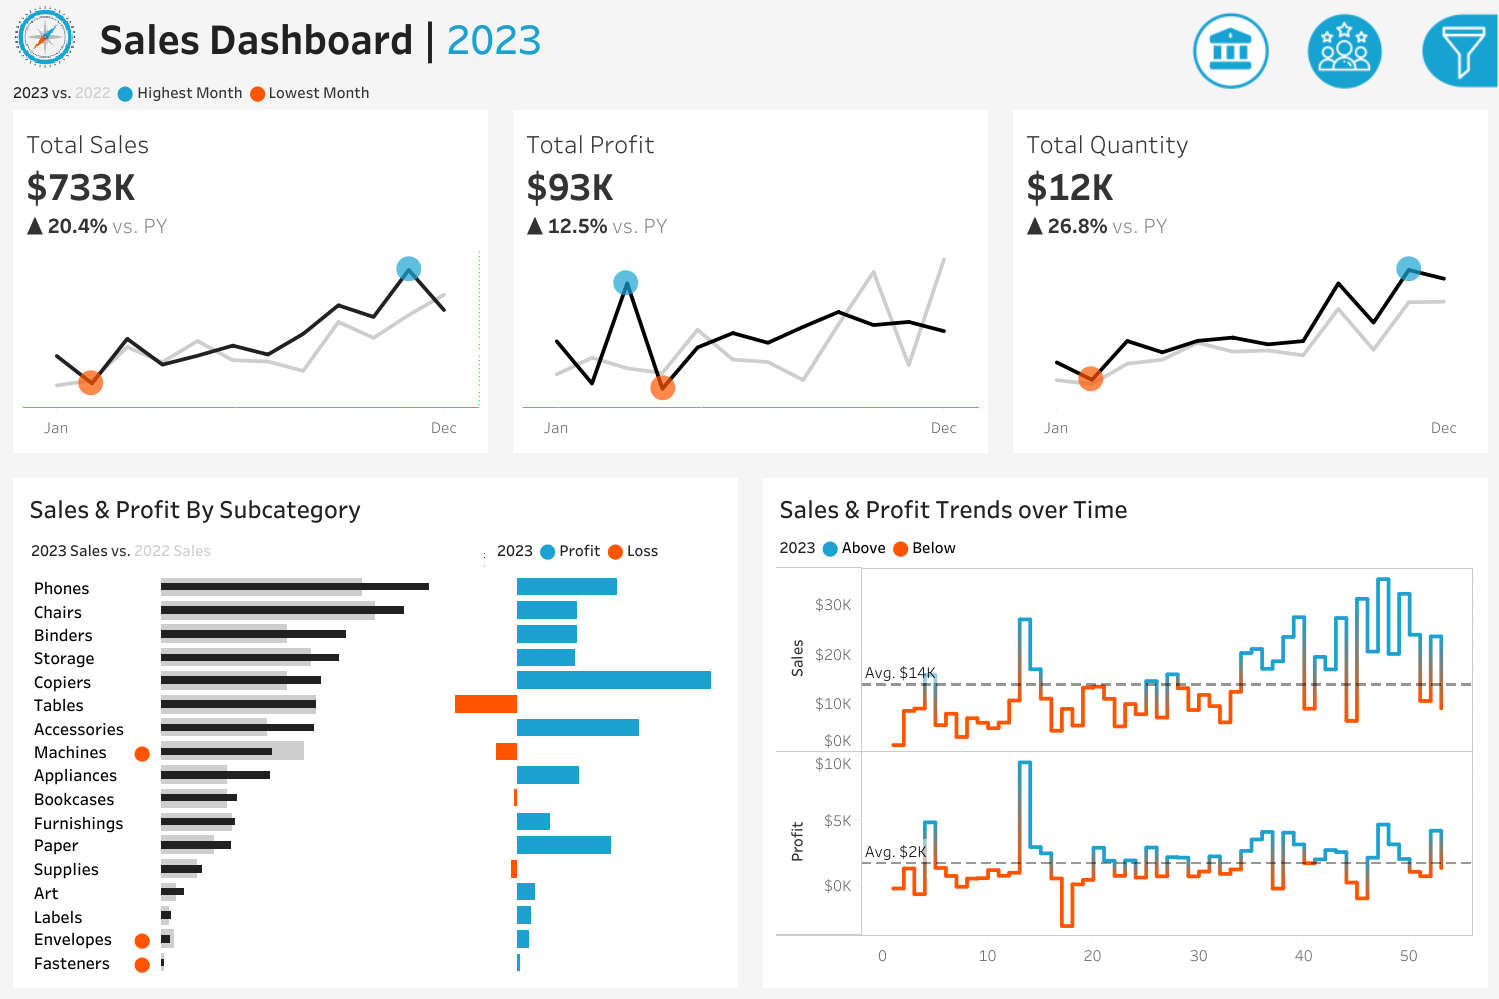

Layout of this report page (visuals, bound fields, positions):
{"tool":"tableau","page":{"name":"Sales Dashboard","canvas":[1200,800],"ordinal":1},"visuals":[{"type":"image","param":"Image/Icon - Logo.png","box":[0,0,73,59]},{"type":"text","box":[73,0,820,59]},{"type":"dashboard-object","box":[940,6,91,70]},{"type":"dashboard-object","box":[1031,6,91,70]},{"type":"blank","box":[952,10,237,86]},{"type":"worksheet","title":"Legend KPI","mark":"Automatic","box":[0,59,1200,29]},{"type":"worksheet","title":"KPI Sales","mark":"Automatic","rows":["Calculation_721701895347843083"],"cols":["Order Date"],"box":[0,88,400,284]},{"type":"worksheet","title":"KPI Profit","mark":"Automatic","rows":["Min/Max Sales (copy)_237846410425847814"],"cols":["Order Date"],"box":[400,88,400,284]},{"type":"worksheet","title":"KPI Quantity","mark":"Automatic","rows":["Min/Max Sales (copy) (copy)_237846410425856007"],"cols":["Order Date"],"box":[800,88,400,284]},{"type":"text","box":[952,96,237,37]},{"type":"parameter","param":"[Parameters].[Parameter 1]","box":[952,133,237,55]},{"type":"text","box":[952,188,237,32]},{"type":"filter","title":"KPI Sales","param":"[federated.1kpxa041aiai2y1cl4pui1t4eju9].[none:Category:nk]","box":[952,220,237,57]},{"type":"filter","title":"KPI Sales","param":"[federated.1kpxa041aiai2y1cl4pui1t4eju9].[none:Sub-Category:nk]","box":[952,277,237,57]},{"type":"blank","box":[952,334,237,60]},{"type":"text","box":[17,389,566,40]},{"type":"text","box":[617,389,566,40]},{"type":"text","box":[952,394,237,32]},{"type":"filter","title":"KPI Sales","param":"[federated.1kpxa041aiai2y1cl4pui1t4eju9].[none:Region:nk]","box":[952,426,237,57]},{"type":"worksheet","title":"Legend Subcategory","mark":"Automatic","box":[17,429,374,32]},{"type":"text","box":[391,429,192,32]},{"type":"text","box":[617,429,566,29]},{"type":"worksheet","title":"Weekly Trends","mark":"Automatic","rows":["Calculation_721701895334993921","CY Sales (copy)_237846410424180736"],"cols":["Order Date"],"box":[617,458,566,325]},{"type":"worksheet","title":"Subcategory Comparison","mark":"Bar","rows":["Sub-Category","Calculation_2435040078806671369"],"cols":["CY Sales (copy)_721701895335804930","Calculation_721701895334993921","CY Sales (copy)_237846410424180736"],"box":[17,461,566,321.9]},{"type":"filter","title":"KPI Sales","param":"[federated.1kpxa041aiai2y1cl4pui1t4eju9].[none:State:nk]","box":[952,483,237,57]},{"type":"filter","title":"KPI Sales","param":"[federated.1kpxa041aiai2y1cl4pui1t4eju9].[none:City:nk]","box":[952,540,237,57]}]}

Visuals, with their boxes in screenshot pixels (x1, y1, x2, y2), scaled from the page's 1200x800 canvas onto the 1499x999 screenshot:
image: box(0, 0, 91, 74)
text: box(91, 0, 1116, 74)
dashboard-object: box(1174, 7, 1288, 95)
dashboard-object: box(1288, 7, 1402, 95)
blank: box(1189, 12, 1485, 120)
"Legend KPI" worksheet: box(0, 74, 1498, 110)
"KPI Sales" worksheet: box(0, 110, 500, 465)
"KPI Profit" worksheet: box(500, 110, 999, 465)
"KPI Quantity" worksheet: box(999, 110, 1498, 465)
text: box(1189, 120, 1485, 166)
parameter: box(1189, 166, 1485, 235)
text: box(1189, 235, 1485, 275)
"KPI Sales" filter: box(1189, 275, 1485, 346)
"KPI Sales" filter: box(1189, 346, 1485, 417)
blank: box(1189, 417, 1485, 492)
text: box(21, 486, 728, 536)
text: box(771, 486, 1478, 536)
text: box(1189, 492, 1485, 532)
"KPI Sales" filter: box(1189, 532, 1485, 603)
"Legend Subcategory" worksheet: box(21, 536, 488, 576)
text: box(488, 536, 728, 576)
text: box(771, 536, 1478, 572)
"Weekly Trends" worksheet: box(771, 572, 1478, 978)
"Subcategory Comparison" worksheet (Bar marks): box(21, 576, 728, 978)
"KPI Sales" filter: box(1189, 603, 1485, 674)
"KPI Sales" filter: box(1189, 674, 1485, 746)
